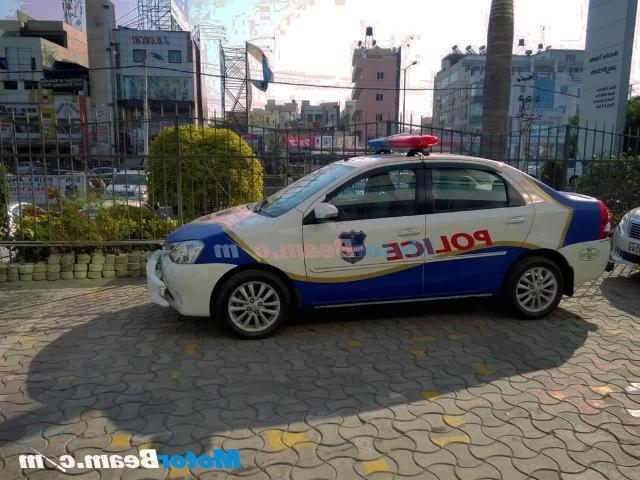police_car: (151, 134, 614, 325)
